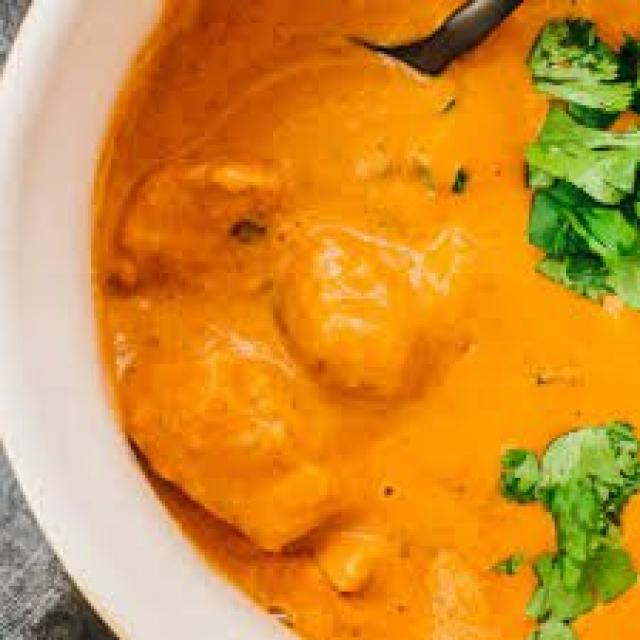Butter Chicken: (94, 3, 640, 640)
